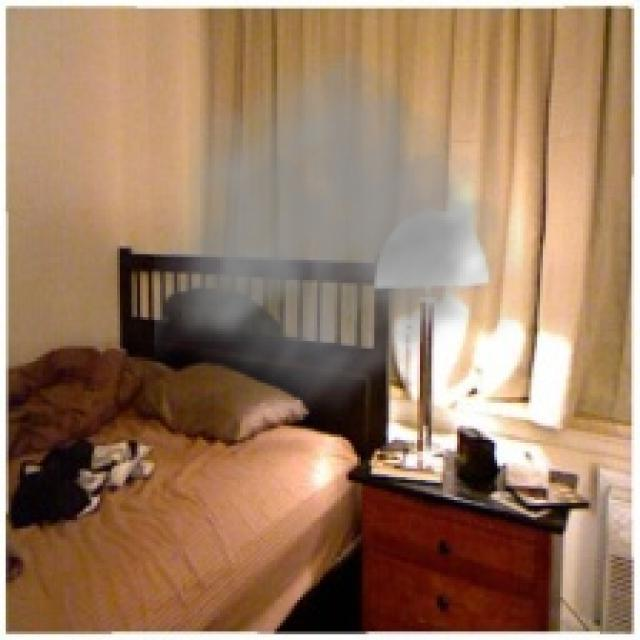Smoke: (154, 34, 549, 429)
